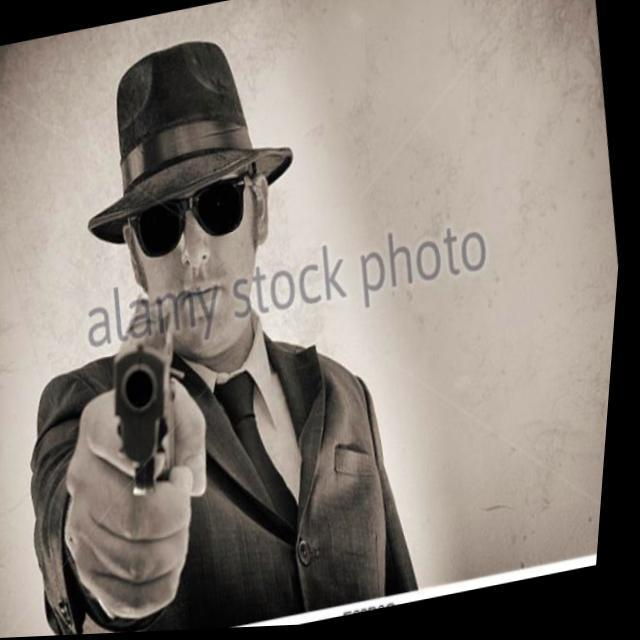weapon: (99, 298, 207, 501)
